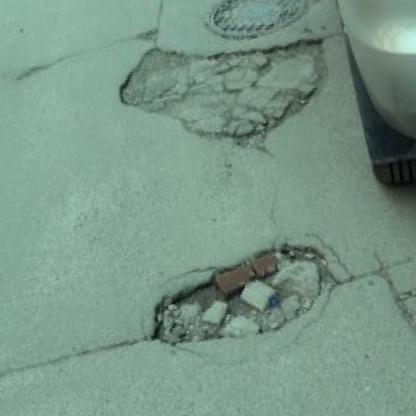pothole: (107, 2, 344, 171), (141, 227, 351, 368), (135, 25, 162, 45)
